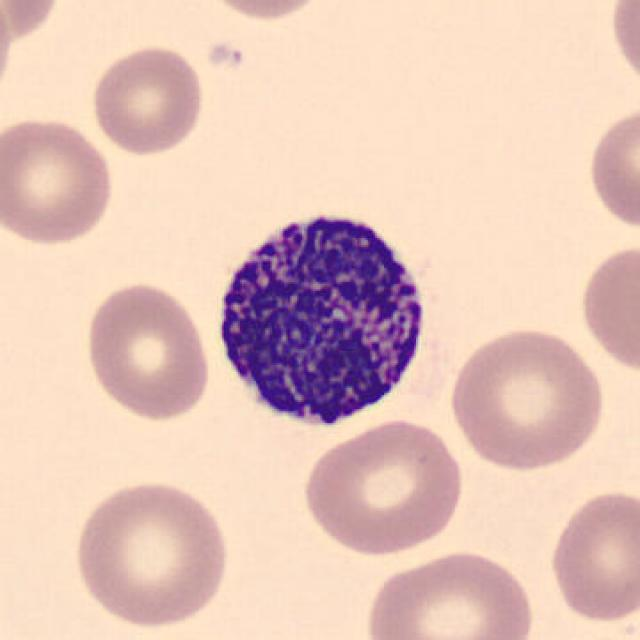Basophil: (204, 194, 441, 439)
RBC: (67, 474, 233, 631), (444, 323, 610, 474), (297, 414, 467, 559), (80, 279, 215, 423), (361, 545, 539, 640), (0, 112, 117, 248), (85, 40, 208, 158), (544, 485, 638, 626), (574, 238, 638, 379), (583, 99, 638, 236), (606, 0, 640, 97), (194, 0, 334, 23), (2, 0, 64, 48), (0, 0, 16, 109)
